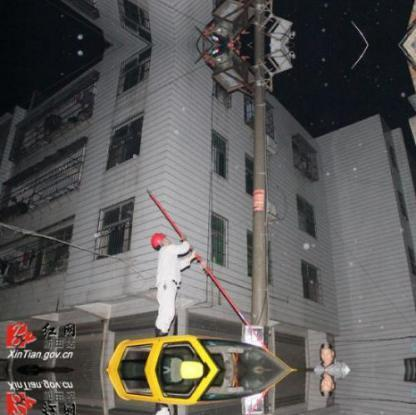helmet: (151, 231, 167, 248)
